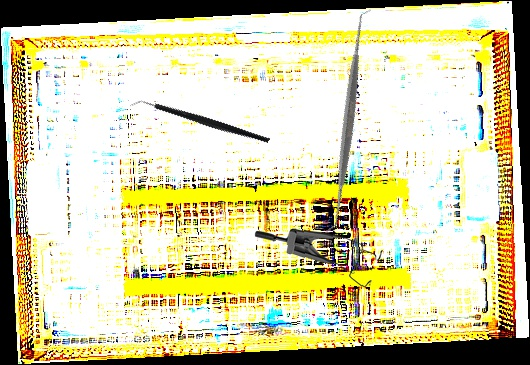Chopper: (128, 58, 272, 187)
Spatula Surgical: (236, 8, 460, 234)
Speculum: (253, 224, 385, 293)
